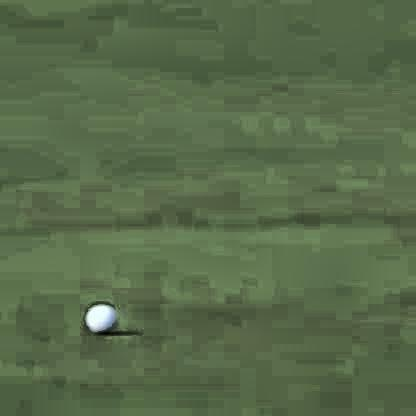golfball: (83, 300, 114, 330)
